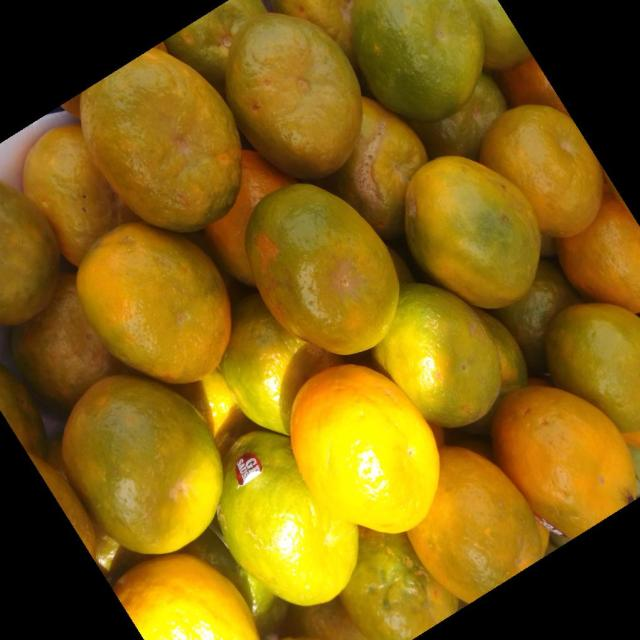fresh orange: (1, 0, 638, 637), (275, 364, 466, 549), (81, 48, 241, 228), (63, 374, 221, 554), (482, 379, 640, 544), (354, 284, 528, 432), (246, 183, 398, 351), (75, 225, 229, 383), (217, 433, 355, 603), (226, 12, 362, 176), (406, 157, 541, 307), (220, 296, 334, 438), (481, 105, 603, 236), (23, 126, 128, 267), (320, 100, 428, 236), (12, 279, 120, 409), (200, 151, 296, 285), (112, 557, 260, 637), (558, 188, 640, 313)
